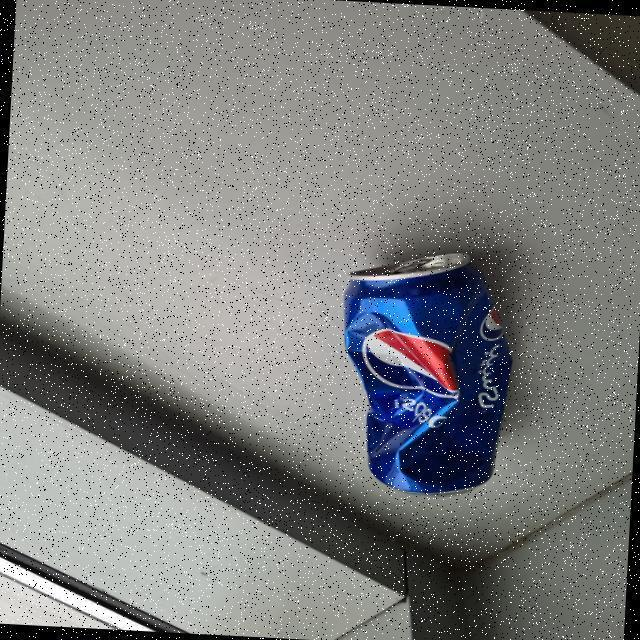metal-can: (340, 249, 522, 508)
